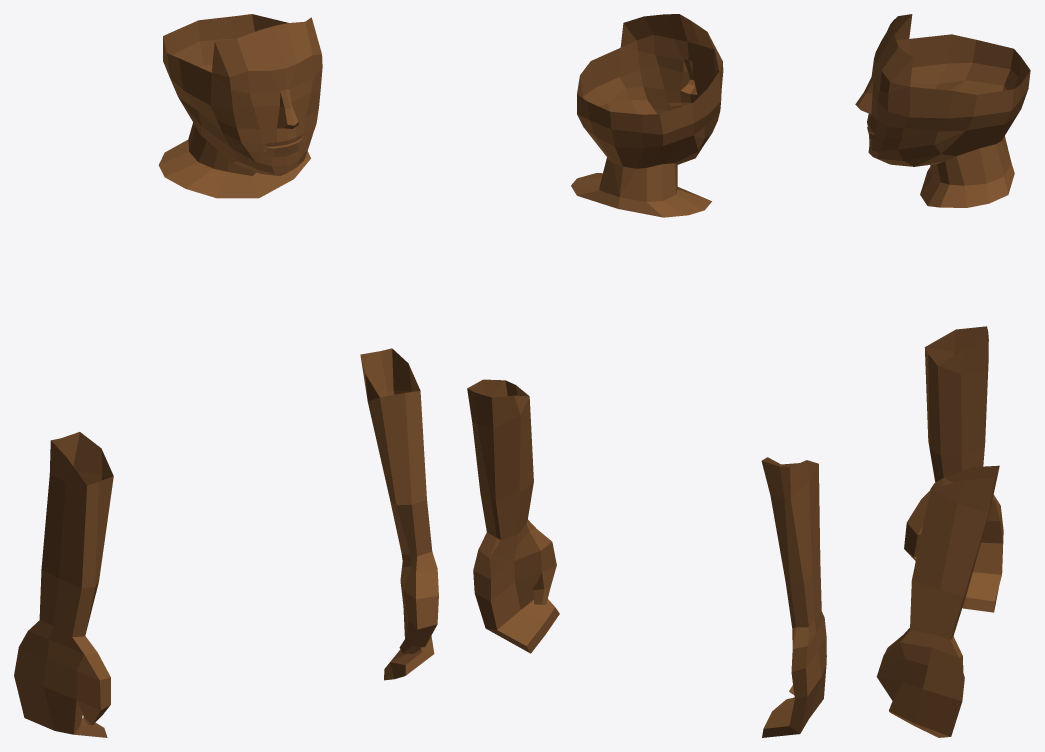
Rendered from Skin_013.obj.
3 renders of one model, left to right at view 1: azimuth 30°, elevation 25°; view 2: azimuth 150°, elevation 25°; view 3: azimuth 270°, elevation 25°, orthographic. The views are drawn at different scales.
Size of the model in its own units: 0.6257 by 1.1 by 0.2684.
